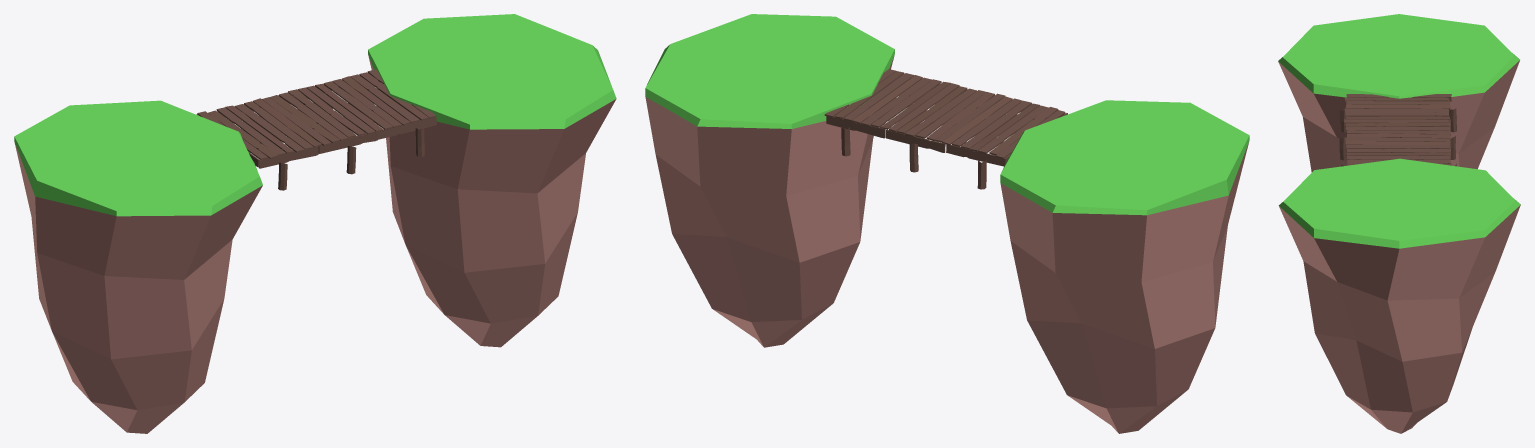
File: Island.glb
3 renders of one model, left to right at view 1: azimuth 30°, elevation 25°; view 2: azimuth 150°, elevation 25°; view 3: azimuth 270°, elevation 25°, orthographic. The views are drawn at different scales.
Parts seen in each view (by area): view 1: OLand, Xland, Dock_Wide; view 2: OLand, Xland, Dock_Wide; view 3: Xland, OLand, Dock_Wide.
Boxes of the visible parts, box(x1,y1,x2,y2) form: OLand: box(14, 100, 262, 433); Xland: box(368, 14, 616, 347); Dock_Wide: box(196, 69, 436, 190); OLand: box(1000, 100, 1249, 433); Xland: box(645, 14, 894, 347); Dock_Wide: box(824, 69, 1067, 189); Xland: box(1278, 158, 1520, 433); OLand: box(1278, 14, 1519, 172); Dock_Wide: box(1339, 94, 1456, 166).
Bounding box in the file's own units: 186 × 86.29 × 83.11.
